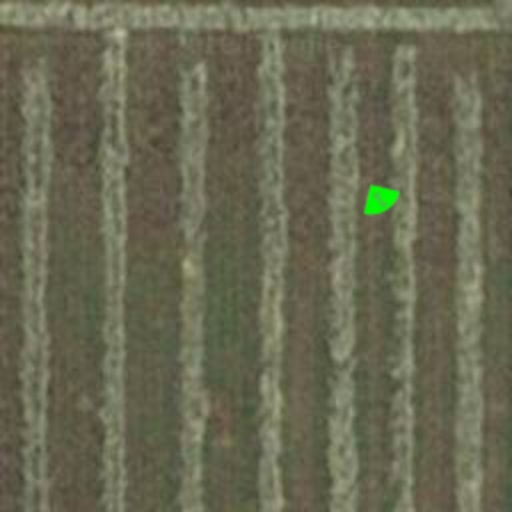quarter_circle: (352, 172, 408, 228)
